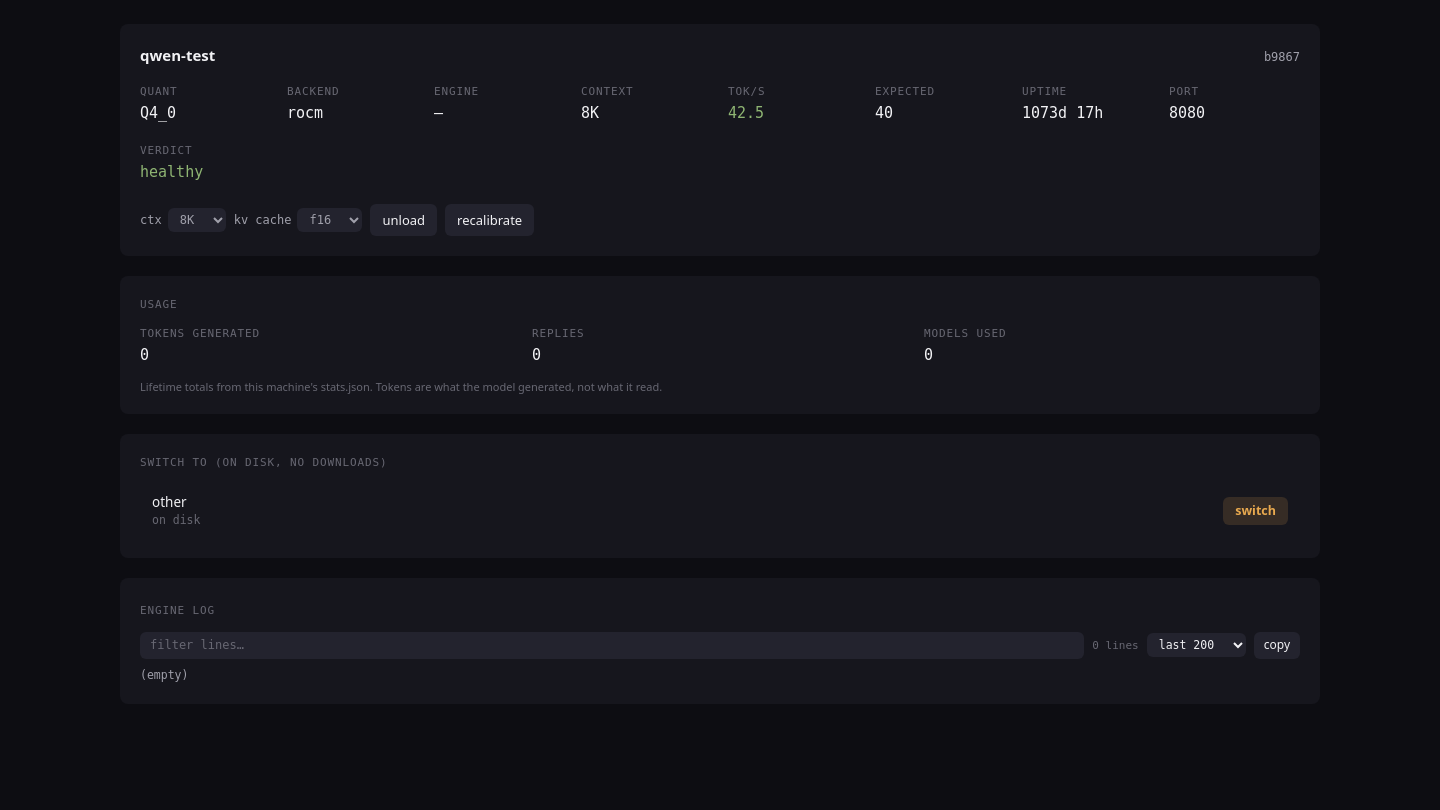
Test: the Engine page and a switch that answers with a notice › draws the sentence the switch returned
The width and height of the screenshot is (1440, 810).
Click the button "switch": (1256, 511) [1223,497,1288,525]
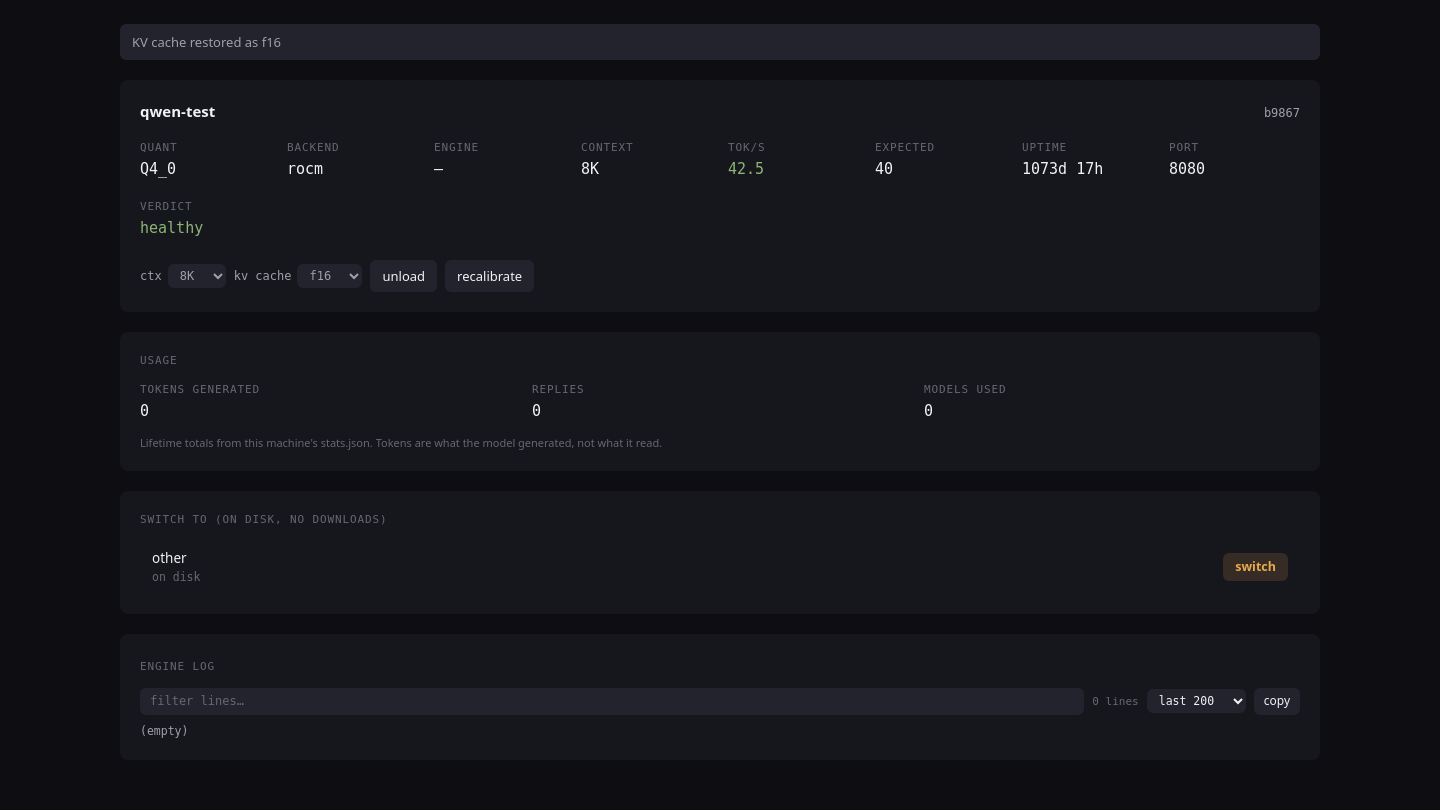
Now the text "KV cache restored as f16" is shown, box [120,24,1320,60]
